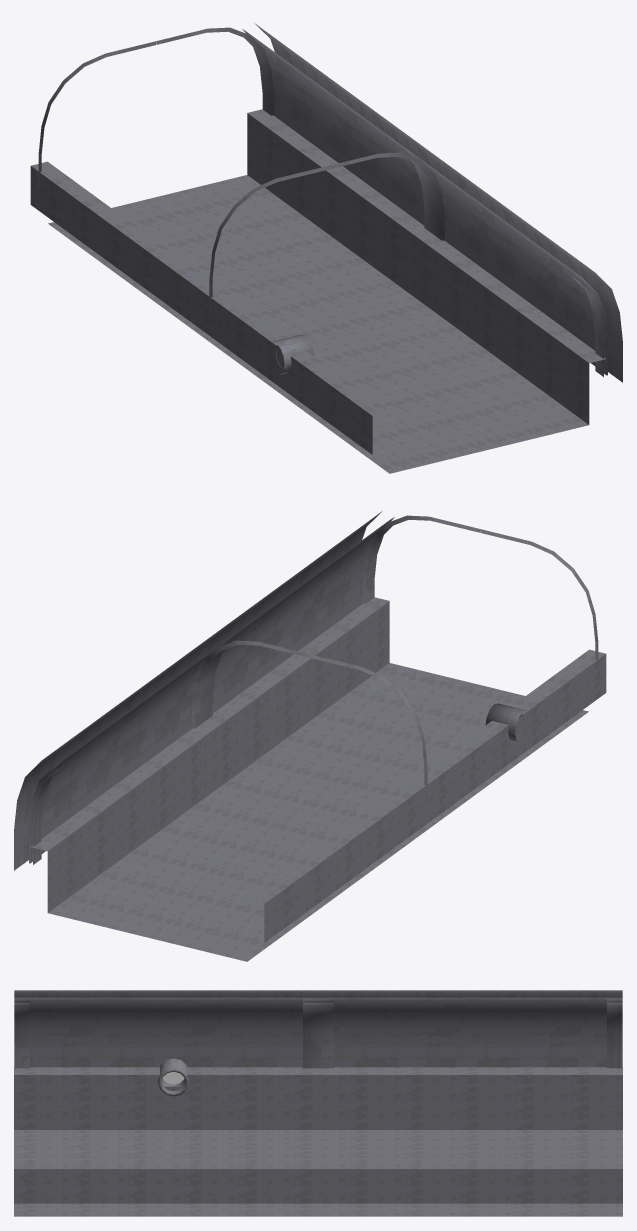
The model's file is SewerWall.glb.
3 renders of one model, top to bottom at view 1: azimuth 30°, elevation 25°; view 2: azimuth 150°, elevation 25°; view 3: azimuth 270°, elevation 25°, orthographic. The views are drawn at different scales.
Visible parts, largest first — view 1: Cube, wall.001, wall, Pillar, Pillar.001, Pillar.002, Cylinder.001; view 2: Cube, wall.001, wall, Pillar, Pillar.002, Pillar.001, Cylinder.001; view 3: Cube, wall.001, wall, Pillar, Pillar.001, Pillar.002, Cylinder.001.
Part boxes in pixels (x1,y1,x2,y2): Cube: (30,109,605,473); wall.001: (243,29,607,375); wall: (254,23,622,382); Pillar: (209,147,444,314); Pillar.001: (38,27,274,189); Pillar.002: (572,273,606,376); Cylinder.001: (272,334,314,374); Cube: (31,597,606,961); wall.001: (29,517,393,863); wall: (14,511,382,870); Pillar: (192,635,427,802); Pillar.002: (362,515,598,677); Pillar.001: (30,761,64,864); Cylinder.001: (485,703,527,743); Cube: (14,1067,622,1216); wall.001: (14,997,622,1067); wall: (14,990,622,997); Pillar: (303,998,333,1068); Pillar.001: (607,998,622,1068); Pillar.002: (14,998,29,1068); Cylinder.001: (158,1058,188,1096).
Size of the model in its own units: 45.23 by 27.47 by 100.
Materials: 4 (4 with a texture image).
